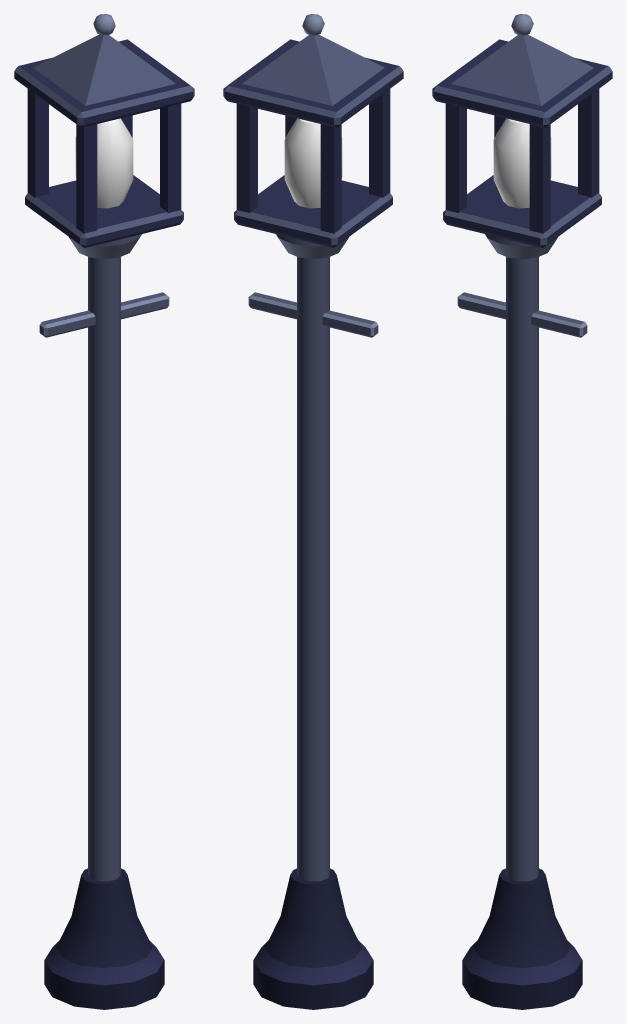
Rendered from StreetLamp.fbx.
3 views of the same model, side by side, from view 1: azimuth 30°, elevation 25°; view 2: azimuth 150°, elevation 25°; view 3: azimuth 330°, elevation 25° (orthographic).
Parts seen in each view (by area): view 1: StreetLamp, StreetLamp_Bulb; view 2: StreetLamp, StreetLamp_Bulb; view 3: StreetLamp, StreetLamp_Bulb.
Part boxes in pixels (x1=…): StreetLamp: x1=14, y1=14, x2=194, y2=1009; StreetLamp_Bulb: x1=75, y1=118, x2=133, y2=208; StreetLamp: x1=223, y1=14, x2=403, y2=1009; StreetLamp_Bulb: x1=284, y1=118, x2=342, y2=208; StreetLamp: x1=432, y1=14, x2=612, y2=1009; StreetLamp_Bulb: x1=493, y1=118, x2=551, y2=208.
Bounding box in the file's own units: 1.5 × 11.05 × 1.4.
Materials: 1 (1 with a texture image).
